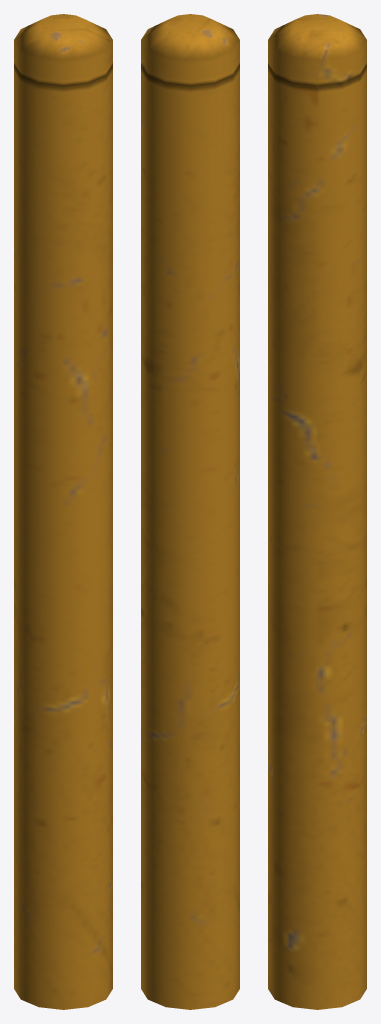
File: MB_Yellow_Pillar.fbx
The picture shows the model from 3 angles, left to right: view 1: azimuth 90°, elevation 25°; view 2: azimuth 150°, elevation 25°; view 3: azimuth 270°, elevation 25°; orthographic projection.
Parts seen in each view (by area): view 1: MB_Yellow_Pillar; view 2: MB_Yellow_Pillar; view 3: MB_Yellow_Pillar.
Part boxes in pixels (x1,y1,x2,y2): MB_Yellow_Pillar: (14,14,112,1009); MB_Yellow_Pillar: (141,14,239,1009); MB_Yellow_Pillar: (268,14,366,1009).
Bounding box in the file's own units: 10 × 108 × 10.
